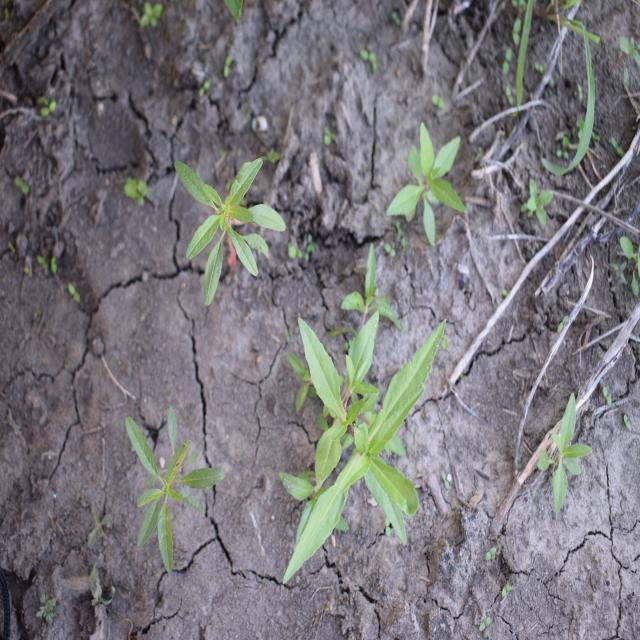Eclipta: (278, 239, 447, 585), (385, 121, 467, 247), (535, 390, 595, 517)
Waterhemp: (124, 404, 226, 575), (173, 156, 287, 304)
